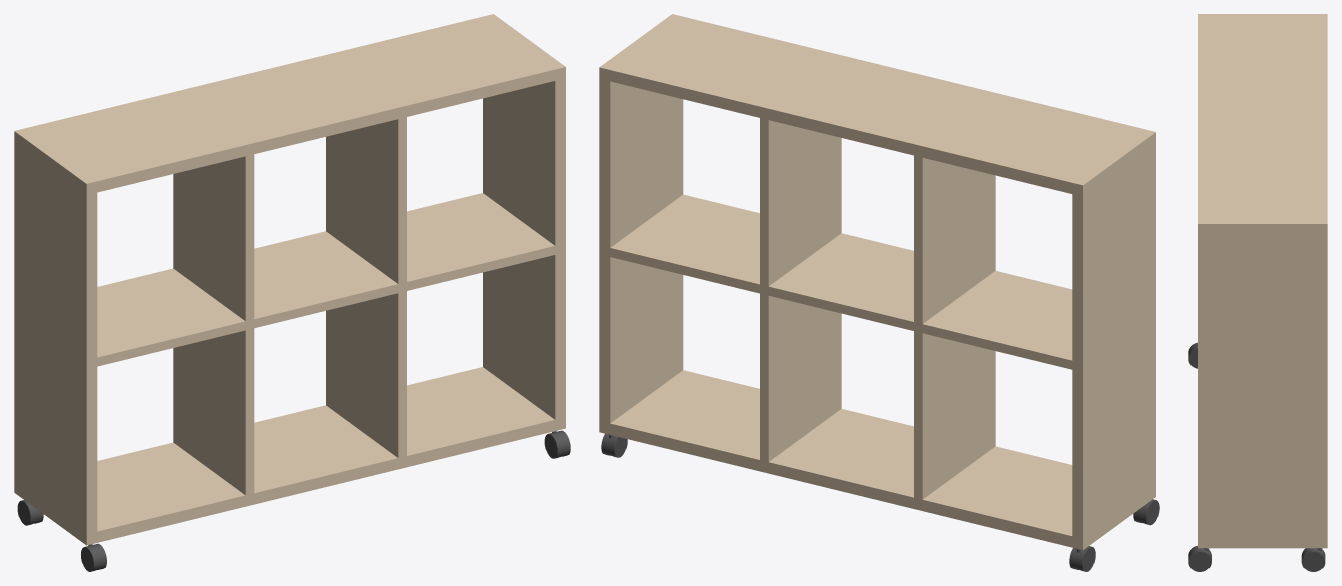
3 views of the same model, side by side, from view 1: azimuth 30°, elevation 25°; view 2: azimuth 150°, elevation 25°; view 3: azimuth 270°, elevation 25° (orthographic). The views are drawn at different scales.
Parts seen in each view (by area): view 1: Body; view 2: Body; view 3: Body.
Part boxes in pixels (bbox=[...]): Body: bbox=[14, 14, 570, 571]; Body: bbox=[599, 14, 1159, 571]; Body: bbox=[1188, 14, 1327, 571].
Size of the model in its own units: 1.11 by 0.8596 by 0.312.
